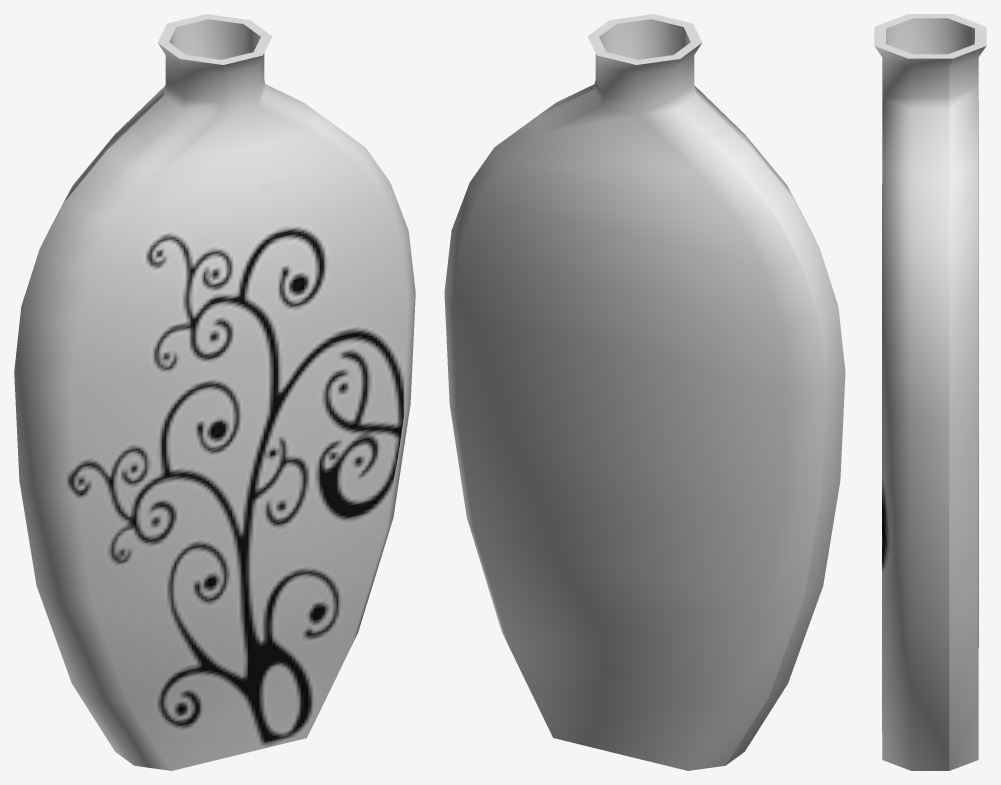
The model's file is VaseE.FBX.
3 renders of one model, left to right at view 1: azimuth 30°, elevation 25°; view 2: azimuth 150°, elevation 25°; view 3: azimuth 270°, elevation 25°, orthographic.
Parts seen in each view (by area): view 1: VaseE_LOD0; view 2: VaseE_LOD0; view 3: VaseE_LOD0.
Part boxes in pixels (left/top/right/bottom): VaseE_LOD0: left=14, top=14, right=415, bottom=770; VaseE_LOD0: left=444, top=14, right=845, bottom=770; VaseE_LOD0: left=874, top=14, right=986, bottom=770.
Size of what is drawn, in the model's own units: 11.34 by 19.77 by 2.91.
